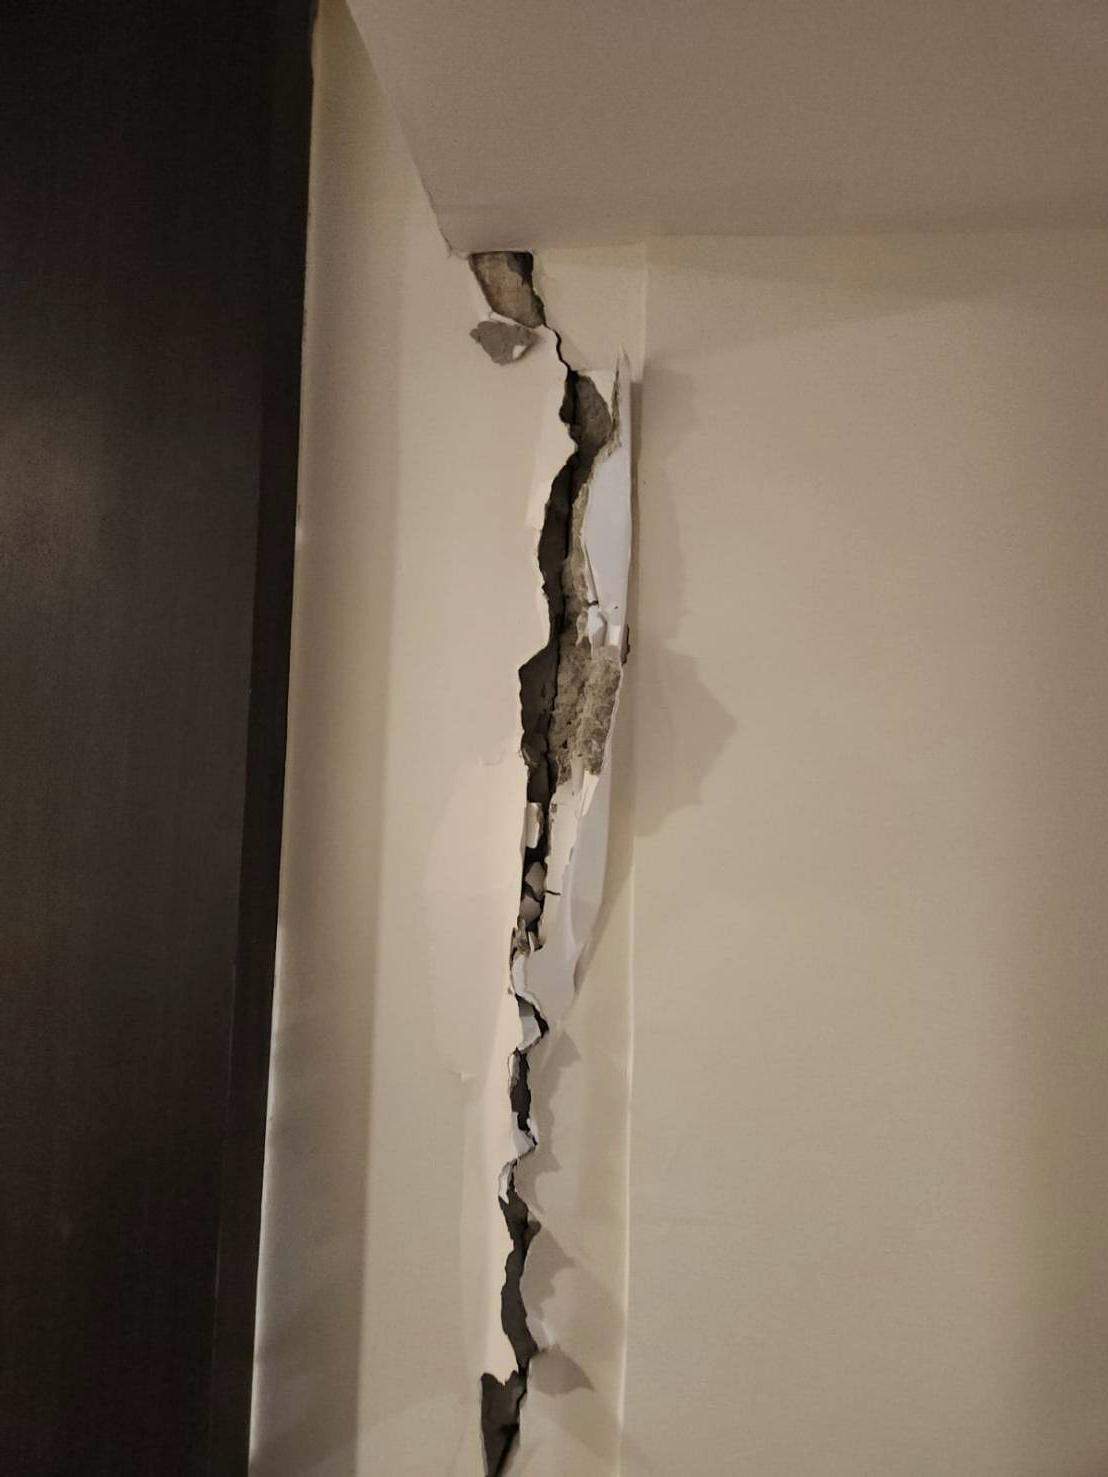High: (407, 212, 640, 1477)
